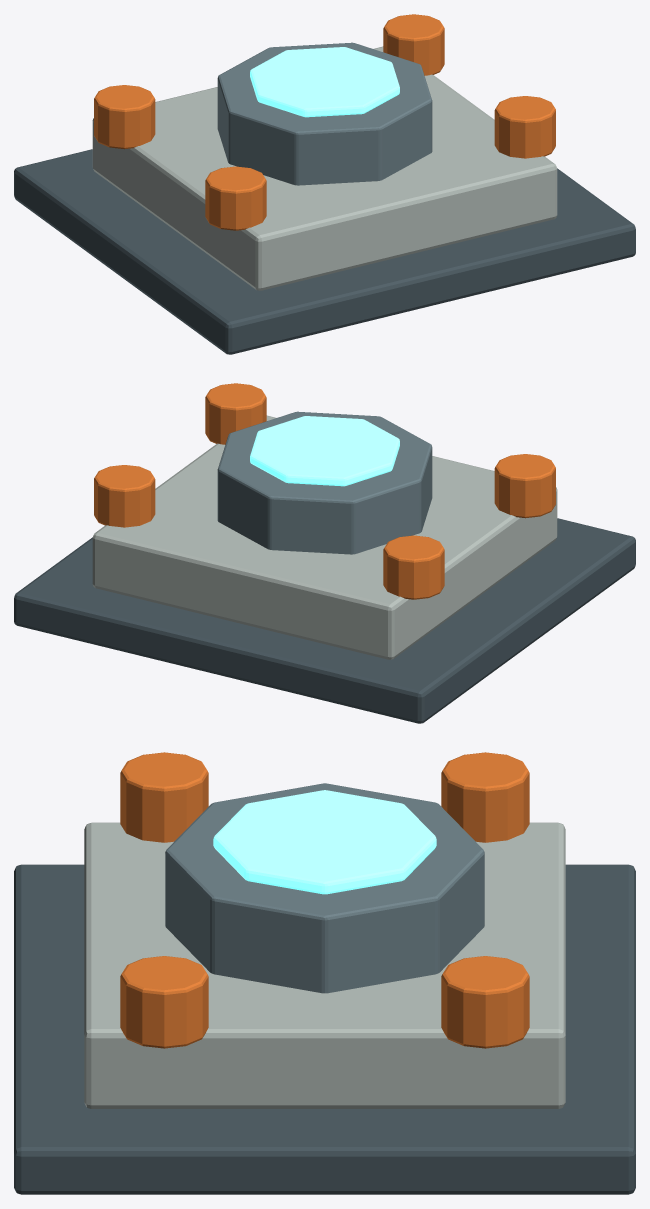
Rendered from assembly_pallet_d0.glb.
3 renders of one model, top to bottom at view 1: azimuth 30°, elevation 25°; view 2: azimuth 150°, elevation 25°; view 3: azimuth 270°, elevation 25°, orthographic. The views are drawn at different scales.
Parts seen in each view (by area): view 1: Rover chassis.012, Fixture pallet.016, Core housing.008, Core status.008, Chassis mount.048, Chassis mount.049, Chassis mount.050, Chassis mount.051; view 2: Rover chassis.012, Fixture pallet.016, Core housing.008, Core status.008, Chassis mount.049, Chassis mount.048, Chassis mount.051, Chassis mount.050; view 3: Fixture pallet.016, Rover chassis.012, Core housing.008, Core status.008, Chassis mount.050, Chassis mount.051, Chassis mount.048, Chassis mount.049.
Part boxes in pixels (x1,y1,x2,y2): Rover chassis.012: [92, 46, 557, 290]; Fixture pallet.016: [14, 149, 635, 354]; Core housing.008: [217, 42, 432, 185]; Core status.008: [250, 47, 399, 117]; Chassis mount.048: [205, 166, 266, 230]; Chassis mount.049: [94, 85, 155, 149]; Chassis mount.050: [494, 96, 555, 158]; Chassis mount.051: [383, 14, 444, 75]; Rover chassis.012: [92, 415, 557, 659]; Fixture pallet.016: [14, 518, 635, 723]; Core housing.008: [217, 411, 432, 554]; Core status.008: [250, 416, 399, 486]; Chassis mount.049: [383, 535, 444, 599]; Chassis mount.048: [494, 454, 555, 518]; Chassis mount.051: [94, 465, 155, 527]; Chassis mount.050: [205, 383, 266, 444]; Fixture pallet.016: [14, 864, 635, 1194]; Rover chassis.012: [84, 822, 565, 1108]; Core housing.008: [165, 783, 484, 993]; Core status.008: [213, 790, 436, 894]; Chassis mount.050: [120, 956, 208, 1048]; Chassis mount.051: [441, 956, 529, 1048]; Chassis mount.048: [120, 752, 208, 842]; Chassis mount.049: [441, 752, 529, 842].
Bounding box in the file's own units: 1.7 × 0.5975 × 1.55.
